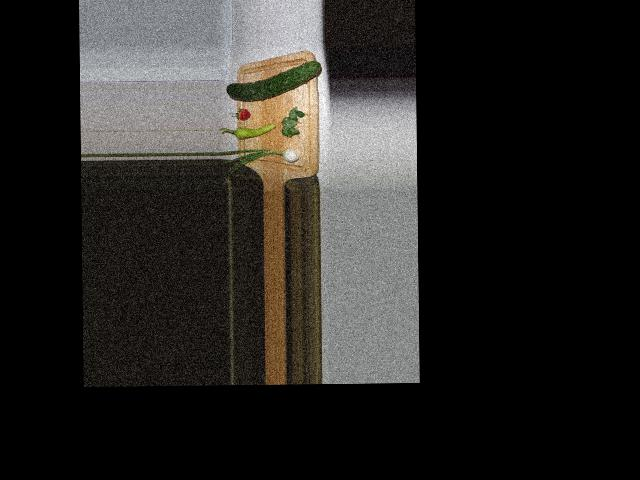cucumber: (226, 60, 321, 101)
